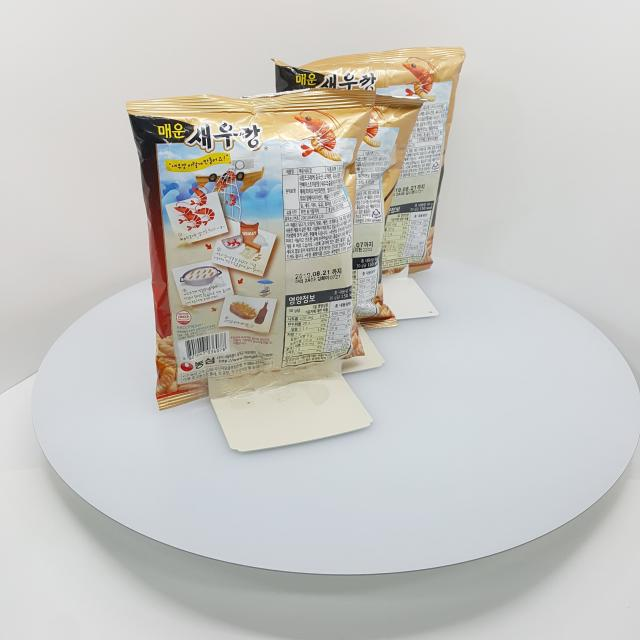-90G: (126, 88, 377, 412)
